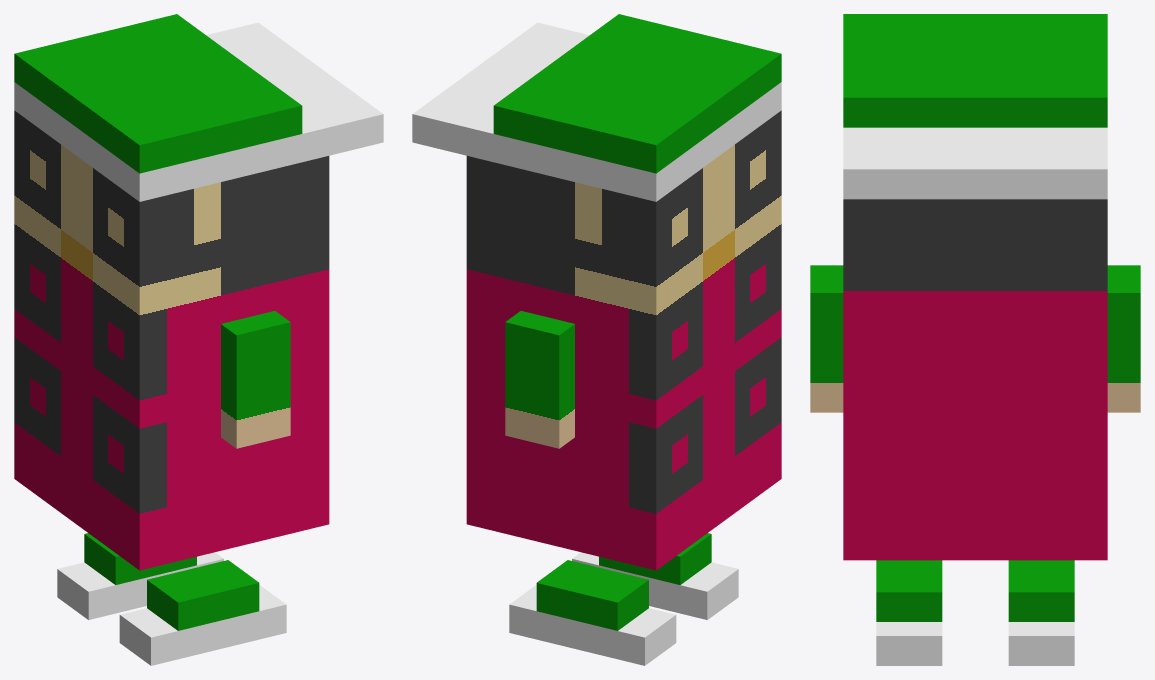
Rendered from Player_22.fbx.
The picture shows the model from 3 angles, left to right: view 1: azimuth 30°, elevation 25°; view 2: azimuth 150°, elevation 25°; view 3: azimuth 270°, elevation 25°; orthographic projection. The views are drawn at different scales.
Parts seen in each view (by area): view 1: Main, LeftFoot, LeftHand, RightFoot; view 2: Main, RightFoot, RightHand, LeftFoot; view 3: Main, LeftFoot, RightFoot, RightHand, LeftHand.
Boxes of the visible parts, <box> form: Main: <box>14,14,383,570</box>; LeftFoot: <box>119,560,286,665</box>; LeftHand: <box>221,311,290,448</box>; RightFoot: <box>57,533,223,619</box>; Main: <box>412,14,781,570</box>; RightFoot: <box>509,560,676,665</box>; RightHand: <box>505,311,574,448</box>; LeftFoot: <box>572,533,738,619</box>; Main: <box>843,14,1107,560</box>; LeftFoot: <box>876,560,942,665</box>; RightFoot: <box>1008,560,1074,665</box>; RightHand: <box>1107,265,1140,412</box>; LeftHand: <box>810,265,843,412</box>.
Size of the model in its own units: 9 by 19 by 10.
1 material, 1 textured.
